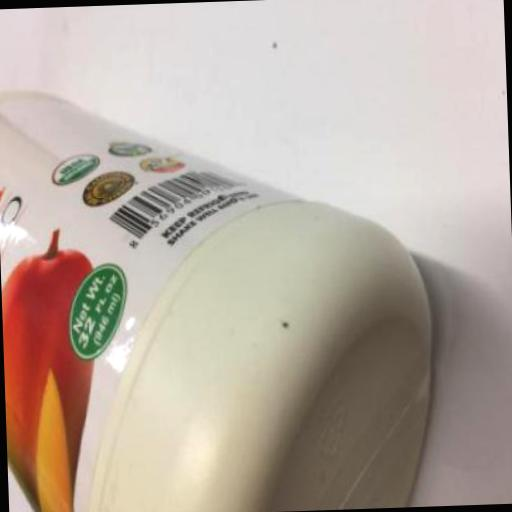plastic: (0, 74, 437, 512)
